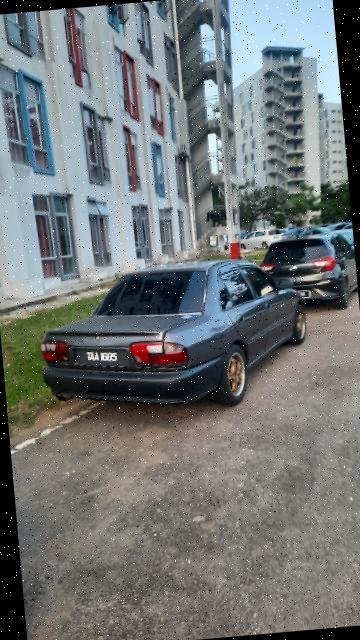License_Plate: (67, 340, 139, 379)
car: (34, 251, 321, 426)
